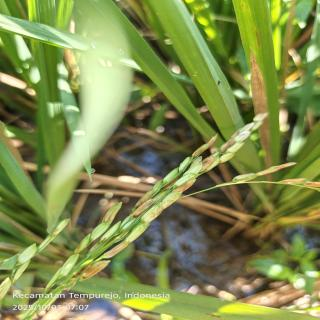Busuk-Bulir: (82, 260, 110, 279), (104, 240, 130, 258), (133, 199, 156, 217), (173, 179, 196, 192), (220, 139, 235, 154), (200, 155, 214, 171)
